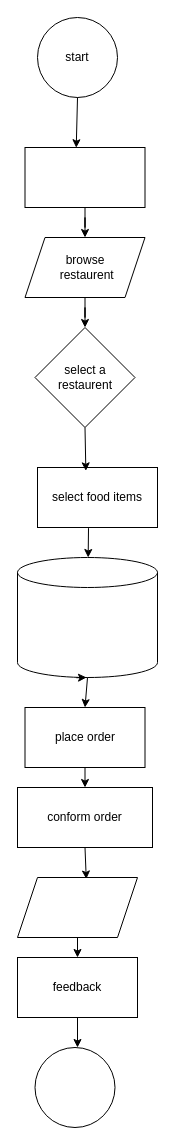
The diagram is 175 pixels wide and 1145 high, and some of its shapes have lost their labels. Here are the shapes that lost their labels. From the top down, the centre of each, then its label:
the point at 84,177: login
the point at 87,617: add items to cart
the point at 77,907: receive order
the point at 74,1087: end
